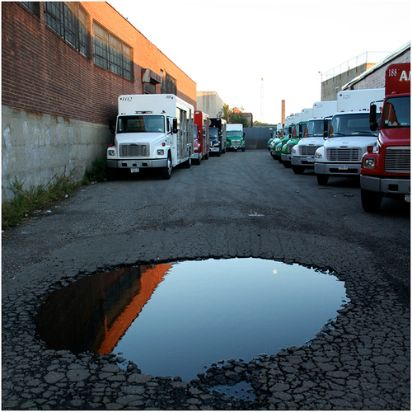pothole: (22, 252, 350, 382)
